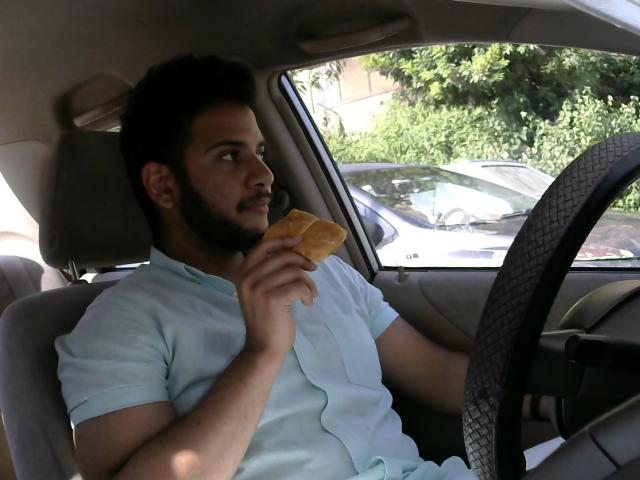Eating: (259, 199, 356, 271)
